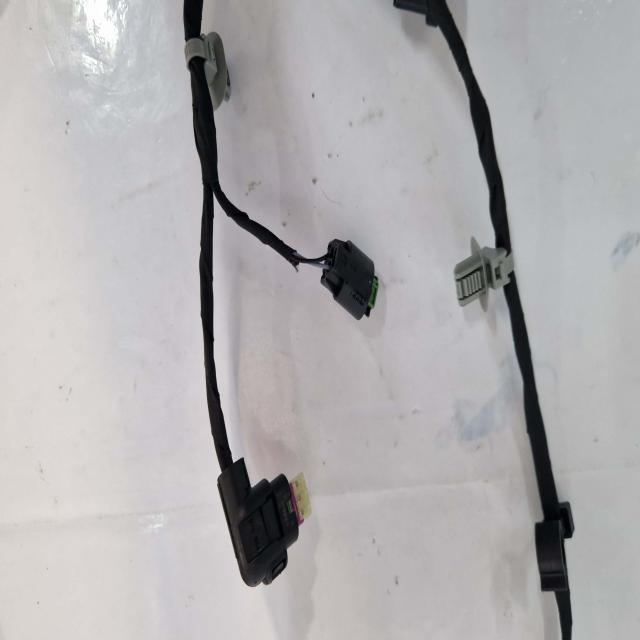Clip: (454, 238, 514, 313), (185, 31, 231, 111), (535, 502, 574, 591)
Connector: (218, 458, 311, 587), (321, 240, 379, 320)
Gape: (299, 228, 333, 273)
MHEV_N11_Cable: (184, 0, 305, 471), (394, 0, 511, 253), (504, 271, 571, 535)
